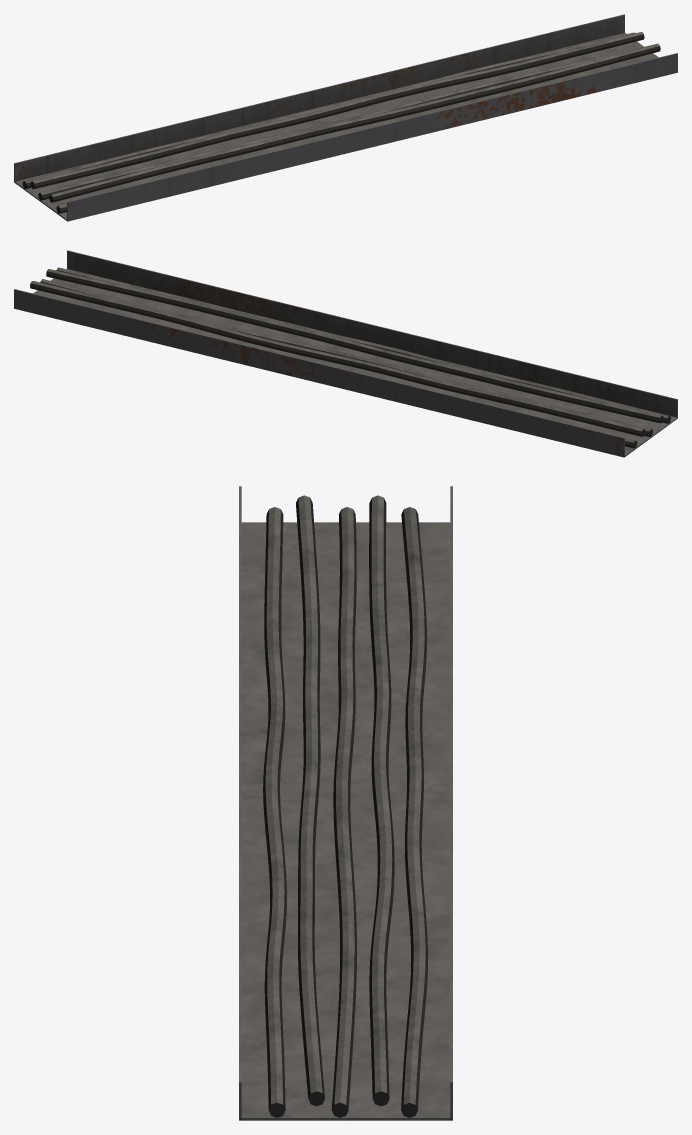
File: SM_CableTray_2m.fbx
The picture shows the model from 3 angles, top to bottom: view 1: azimuth 30°, elevation 25°; view 2: azimuth 150°, elevation 25°; view 3: azimuth 270°, elevation 25°; orthographic projection. The views are drawn at different scales.
Visible parts, largest first — view 1: SM_CableTray_2m; view 2: SM_CableTray_2m; view 3: SM_CableTray_2m.
Part boxes in pixels (<box>): SM_CableTray_2m: <box>14,14,677,221</box>; SM_CableTray_2m: <box>14,250,677,457</box>; SM_CableTray_2m: <box>239,486,452,1120</box>.
Bounding box in the file's own units: 2 × 0.06 × 0.304.
1 material, 1 textured.
